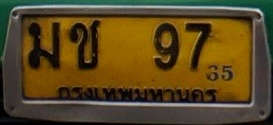txt08: (68, 19, 101, 71)
txt28: (27, 21, 61, 71)
